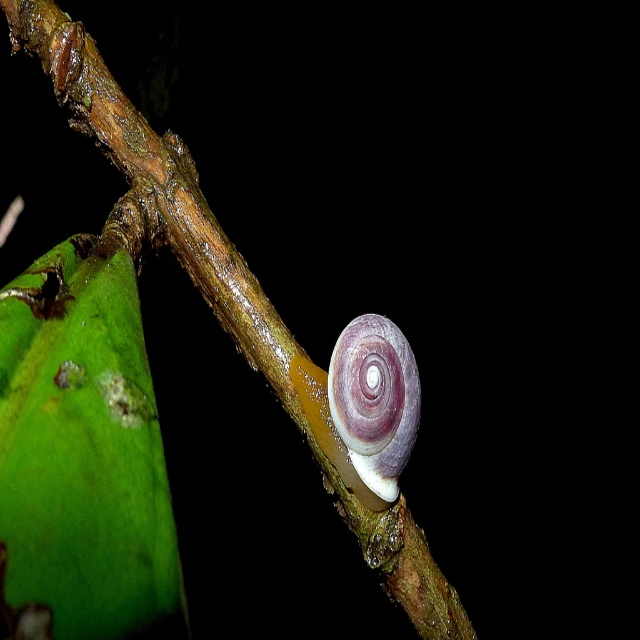Snail: (322, 308, 427, 499)
